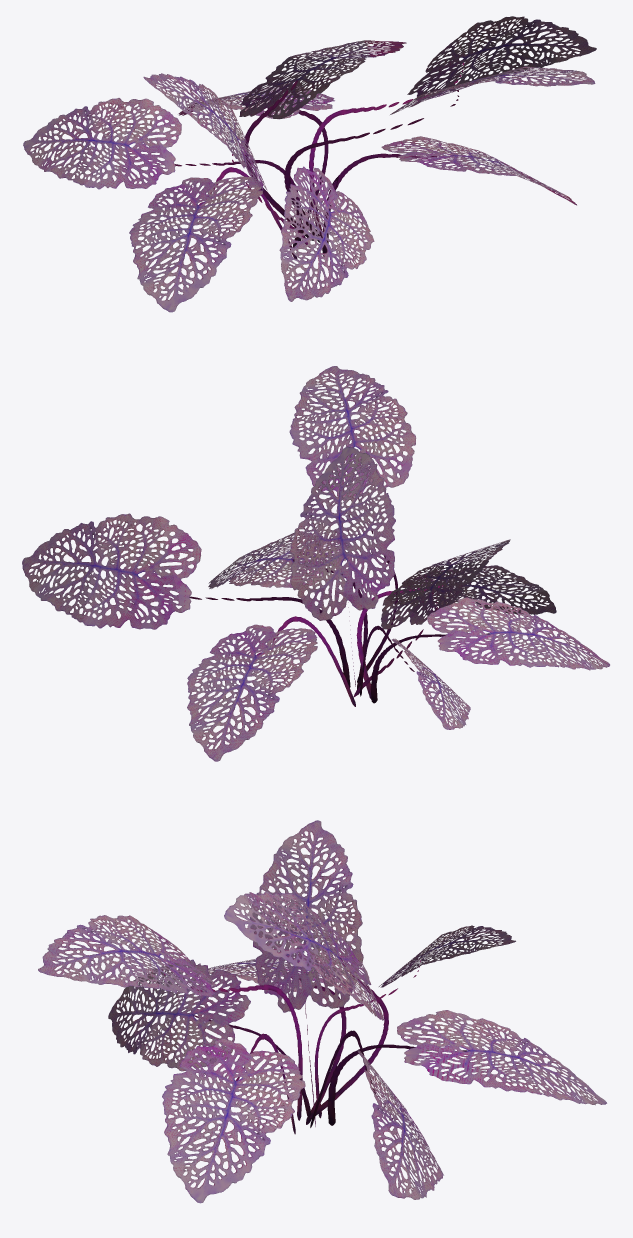
The model's file is Spin Reef C3.fbx.
3 renders of one model, top to bottom at view 1: azimuth 30°, elevation 25°; view 2: azimuth 150°, elevation 25°; view 3: azimuth 270°, elevation 25°, orthographic. The views are drawn at different scales.
Parts seen in each view (by area): view 1: Spin Reef C3; view 2: Spin Reef C3; view 3: Spin Reef C3.
Boxes of the visible parts, x1,y1,x2,y2 form: Spin Reef C3: (23, 16, 596, 312); Spin Reef C3: (22, 366, 609, 761); Spin Reef C3: (38, 820, 606, 1203).
Bounding box in the file's own units: 220 × 94.59 × 196.
